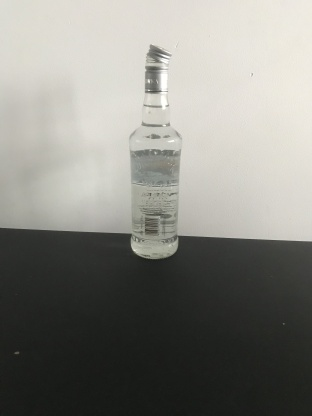nakretka: (143, 42, 173, 94)
